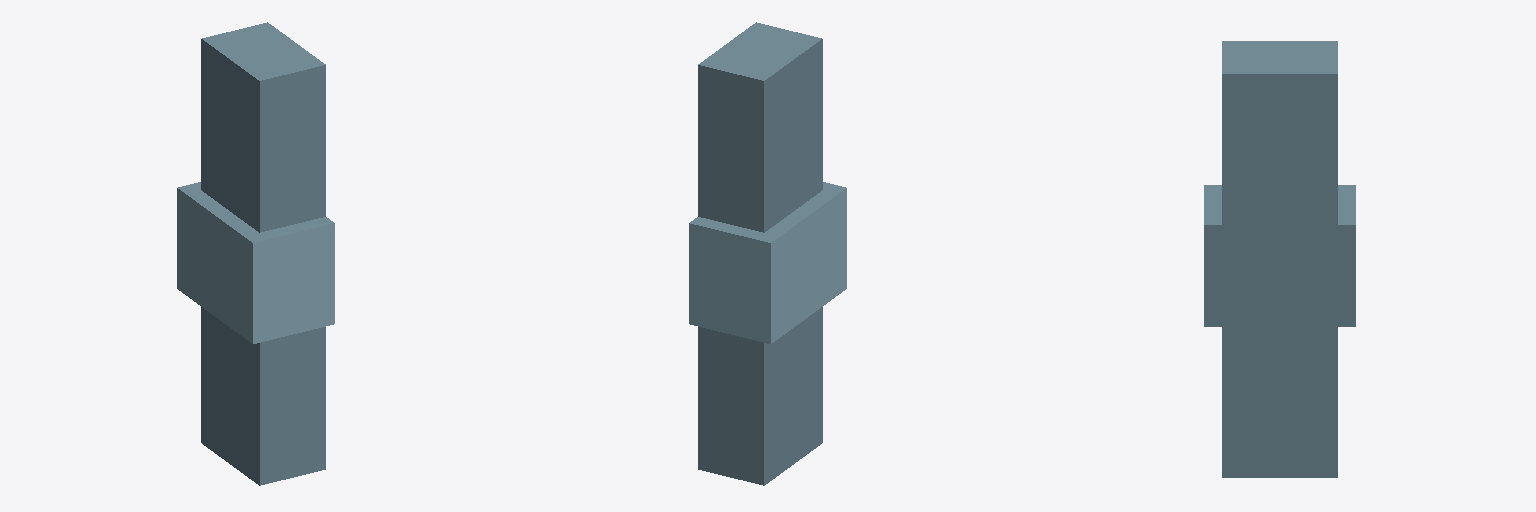
File: chimney.obj
The picture shows the model from 3 angles: view 1: azimuth 30°, elevation 25°; view 2: azimuth 150°, elevation 25°; view 3: azimuth 270°, elevation 25°; orthographic projection.
Visible parts, largest first — view 1: chimney; view 2: chimney; view 3: chimney.
Boxes of the visible parts, <box> form: chimney: <box>177,22,334,485</box>; chimney: <box>689,22,846,485</box>; chimney: <box>1204,41,1355,477</box>.
Bounding box in the file's own units: 0.212 × 1 × 0.34.